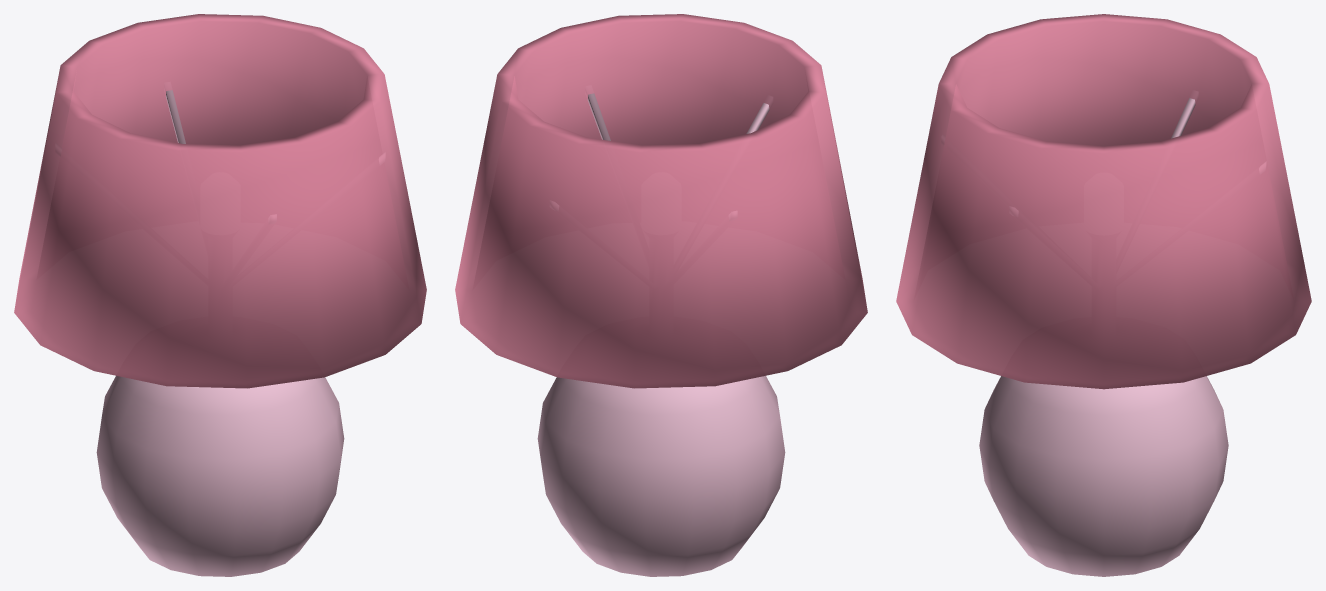
File: pink lamp.fbx
The picture shows the model from 3 angles, left to right: view 1: azimuth 30°, elevation 25°; view 2: azimuth 150°, elevation 25°; view 3: azimuth 270°, elevation 25°; orthographic projection.
Visible parts, largest first — view 1: Cylinder; view 2: Cylinder; view 3: Cylinder.
Part boxes in pixels (x1,y1,x2,y2): Cylinder: [14, 14, 426, 576]; Cylinder: [455, 14, 867, 576]; Cylinder: [896, 14, 1311, 576].
Size of the model in its own units: 31.46 by 38.3 by 31.46.
